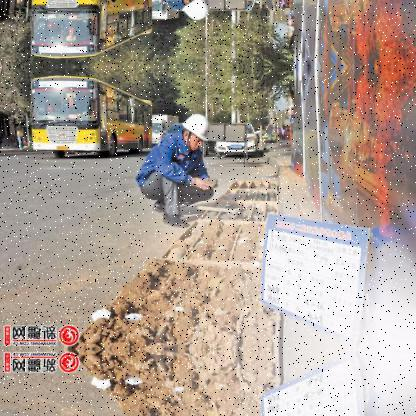helmet: (181, 110, 211, 149), (180, 0, 211, 21)
